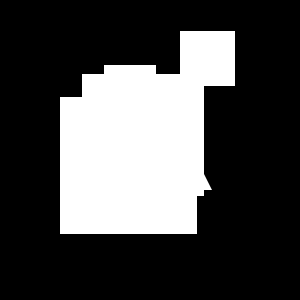circle: (60, 97, 197, 234), (82, 74, 204, 196), (180, 31, 235, 86), (104, 65, 156, 117)
triangle: (121, 99, 212, 190)
